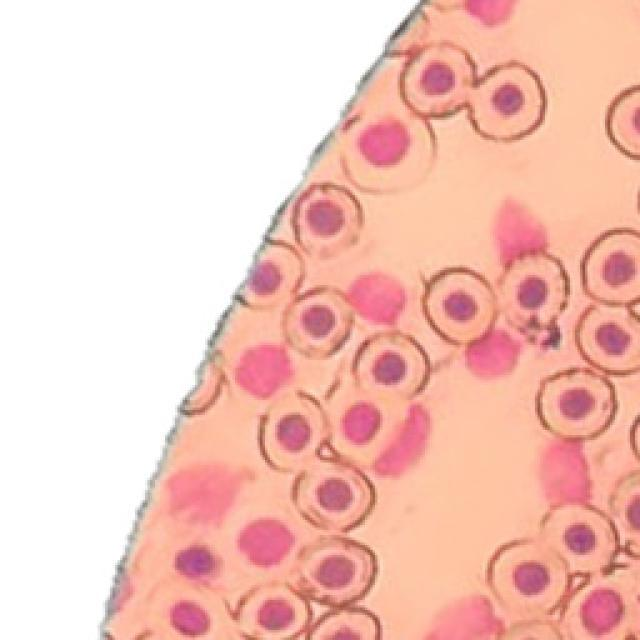RBC: (338, 109, 437, 196), (485, 538, 569, 619), (292, 458, 377, 535), (325, 378, 400, 465), (259, 388, 330, 474), (501, 252, 569, 341), (147, 572, 236, 640), (470, 62, 545, 140), (352, 329, 431, 403), (540, 502, 619, 576), (400, 44, 475, 118), (424, 268, 496, 344), (538, 369, 616, 438), (298, 538, 376, 605), (292, 184, 362, 256), (241, 240, 306, 313), (285, 288, 352, 357), (562, 581, 636, 640), (576, 305, 640, 373), (582, 230, 640, 304), (239, 585, 309, 640), (606, 84, 640, 160), (309, 609, 380, 639)
WBC: (374, 404, 430, 475), (494, 200, 548, 266), (540, 440, 590, 505), (235, 345, 292, 397), (348, 272, 404, 323), (466, 329, 521, 378), (239, 519, 294, 567), (465, 0, 514, 26), (175, 546, 215, 577)
